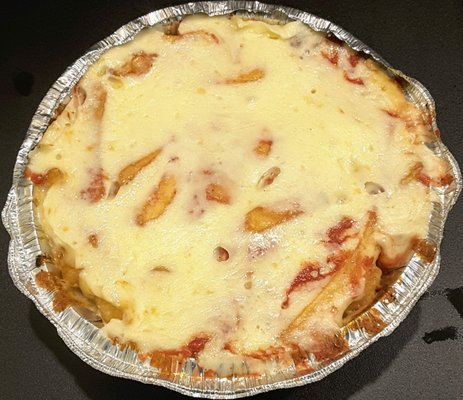sandwich: (6, 6, 457, 384)
